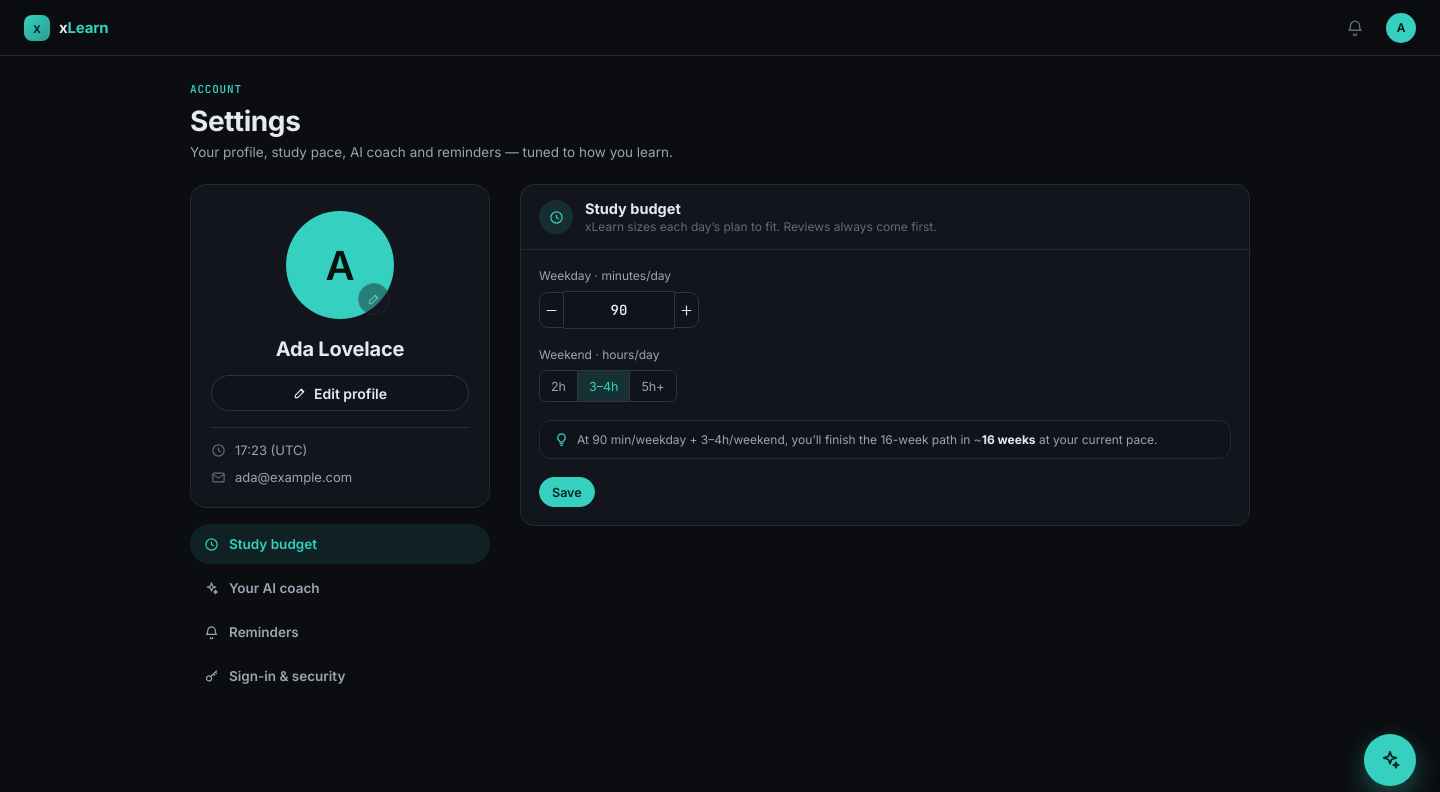
Settings screen › shows 'coach off' with both providers unconnected and gates connect on a key
The width and height of the screenshot is (1440, 792).
Click the tab "Your AI coach".
click(274, 588)  # box [190,568,490,608]
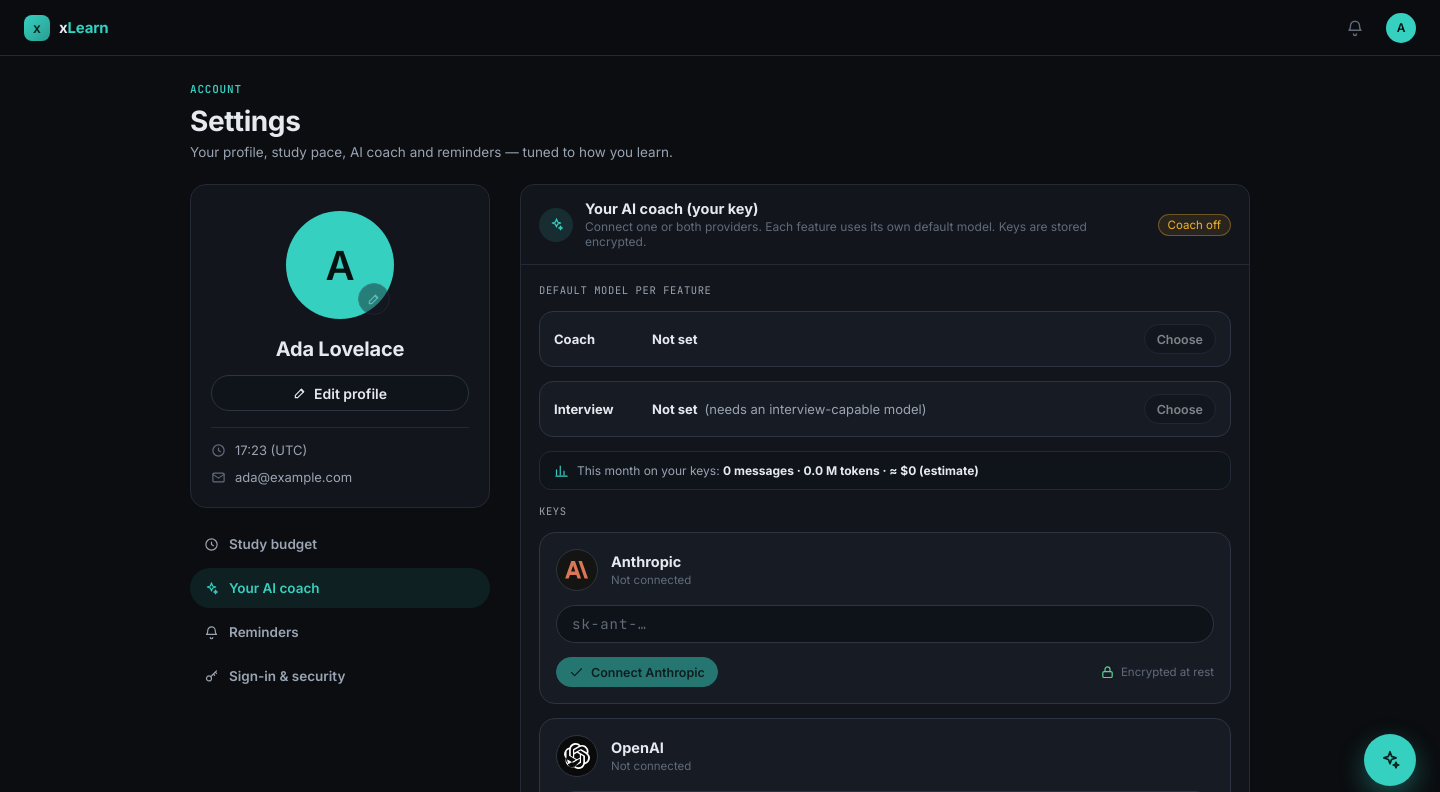
Check: the heading "Your AI coach (your key)" is shown, box [585,200,758,217]
Check: the text "Not connected" is shown 2 times, box [611,573,691,587]; [611,759,691,773]
Check: the button "Connect Anthropic" is disabled, box [556,657,718,687]
Type "sk-ant-secret-key-1234" into the password field with placeholder "sk-ant-…".
click(885, 624); type("sk-ant-secret-key-1234")  # box [556,605,1214,643]
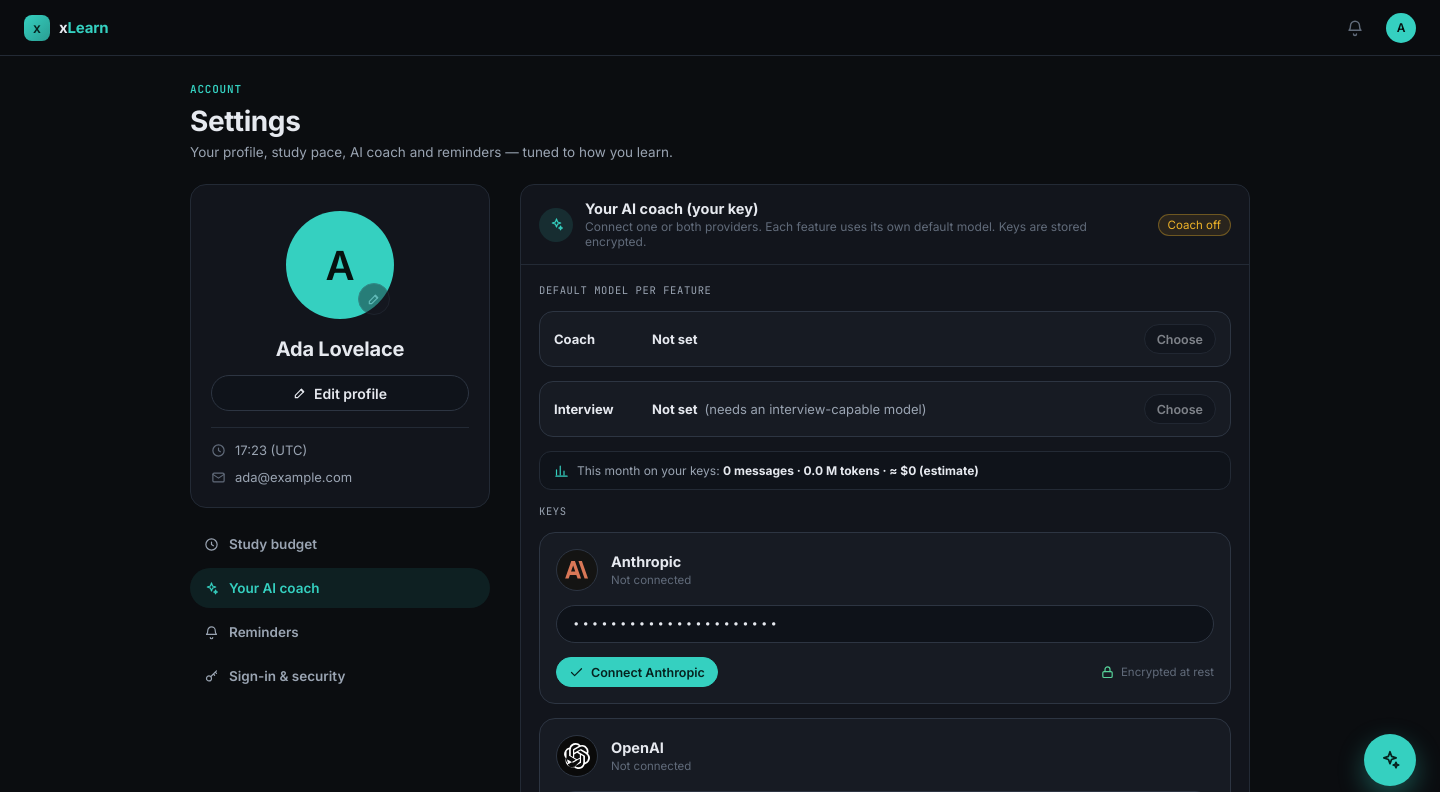
Check: the button "Connect Anthropic" is enabled, box [556,657,718,687]
